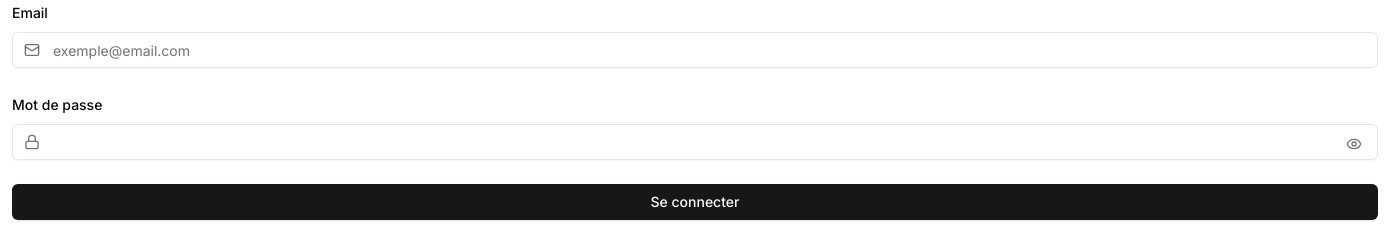
Test: LoginForm › devrait désactiver le bouton pendant la soumission
In the field labelled "Email": (695, 50) [12,32,1378,68], type "test@example.com"
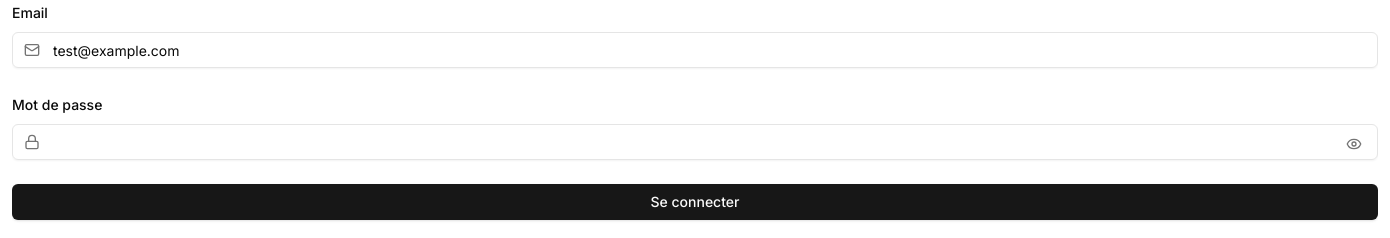
In the password field labelled "Mot de passe": (695, 142) [12,124,1378,160], type "password123"
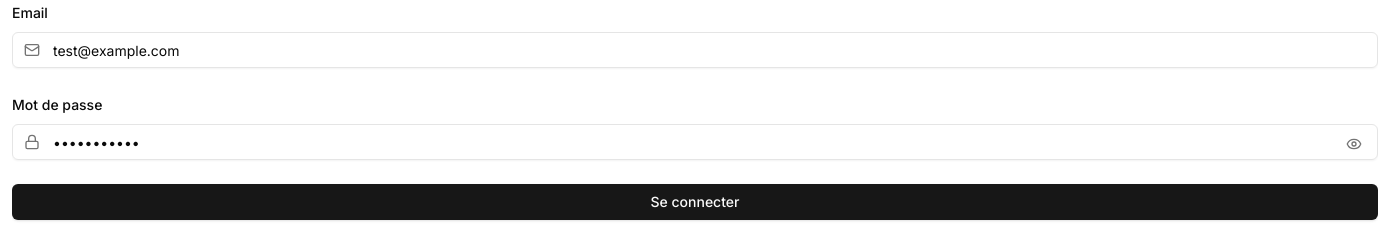
Click the button "Se connecter": (695, 202) [12,184,1378,220]
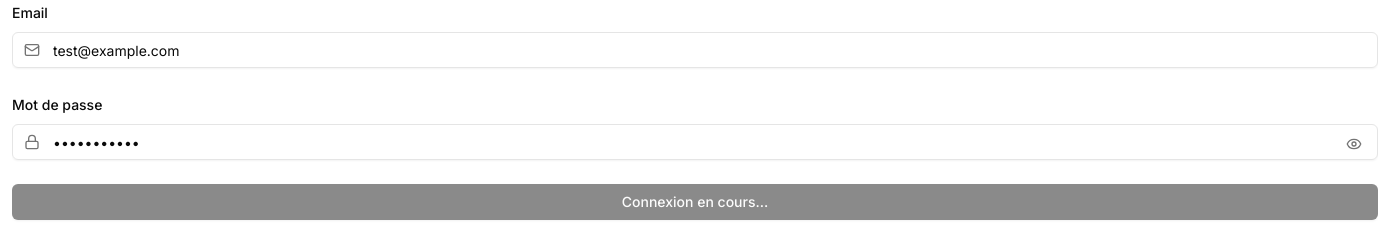
Expected: the button named "se connecter" is disabled, [12,184,1378,220]
